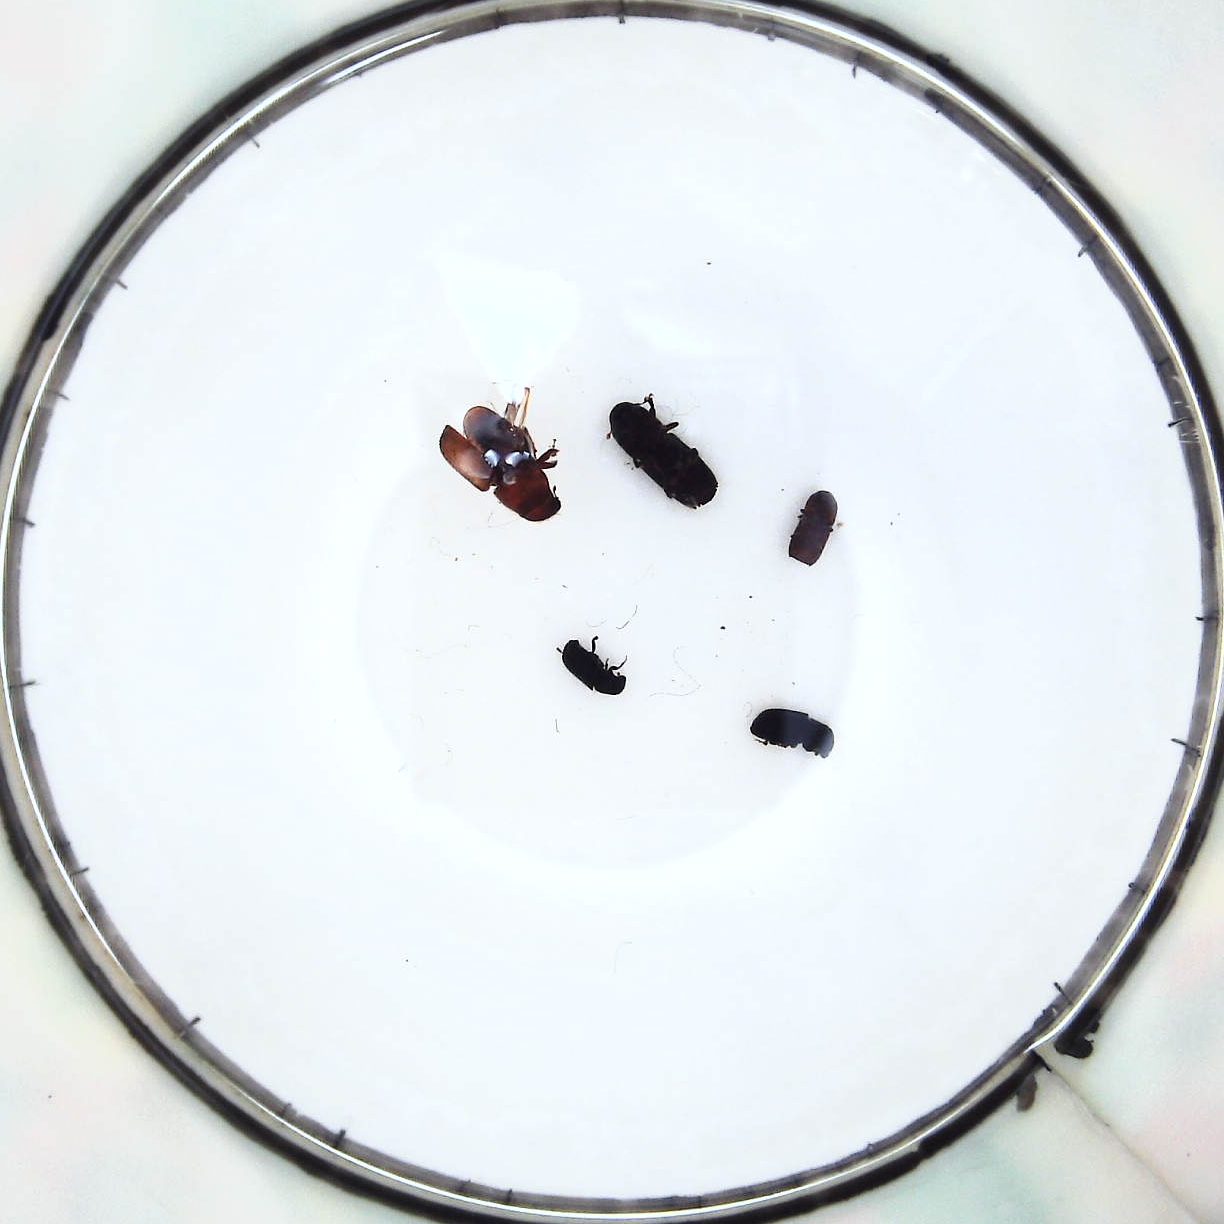Boerner: (616, 398, 720, 510)
Leconte: (439, 395, 571, 523)
Linnaeus: (786, 490, 842, 563)
armandi: (744, 701, 832, 761)
coleoptera: (556, 629, 632, 695)
